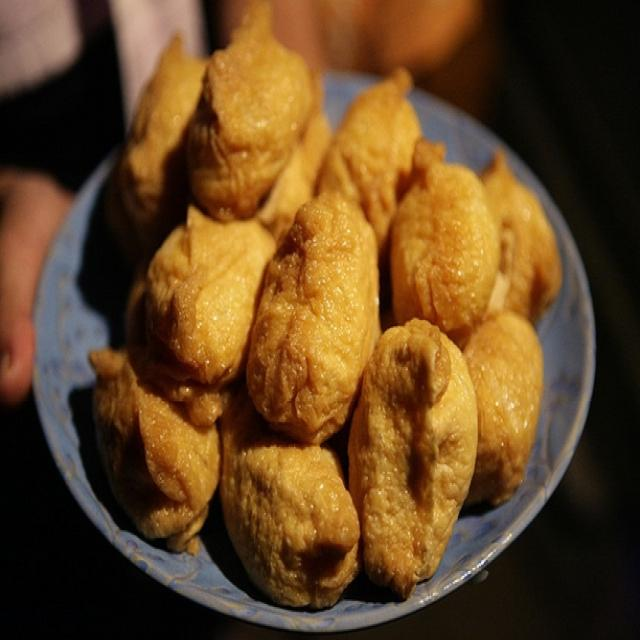寿司卷物: (51, 17, 586, 599)
